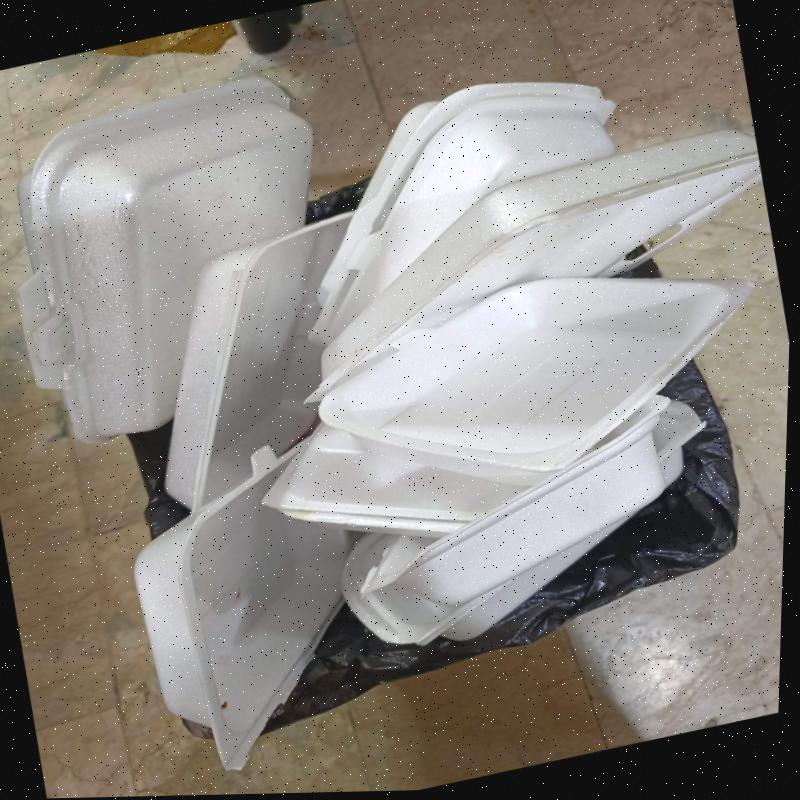styrofoam containers: (301, 129, 762, 402), (16, 76, 313, 444), (316, 275, 756, 487), (309, 82, 617, 346), (134, 441, 355, 771), (360, 396, 671, 607), (164, 212, 354, 512), (339, 512, 635, 646), (261, 425, 529, 538), (652, 401, 705, 487)
